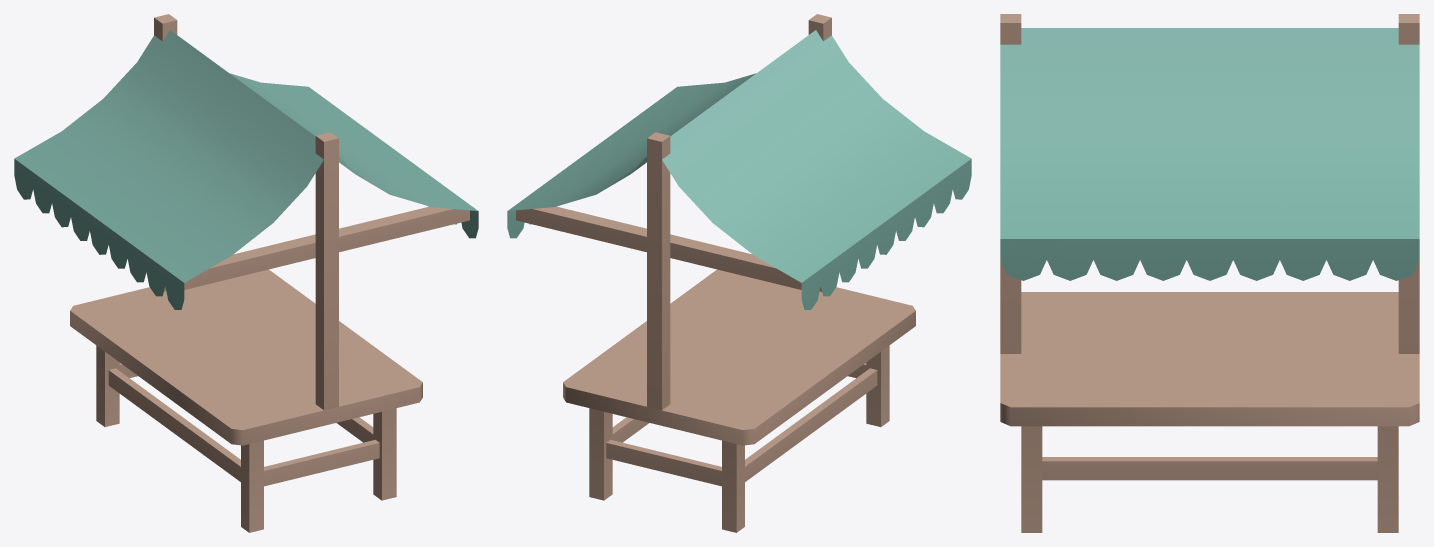
File: stall-green.glb
The picture shows the model from 3 angles, left to right: view 1: azimuth 30°, elevation 25°; view 2: azimuth 150°, elevation 25°; view 3: azimuth 270°, elevation 25°; orthographic projection. The views are drawn at different scales.
Visible parts, largest first — view 1: stall-green; view 2: stall-green; view 3: stall-green.
Boxes of the visible parts, left/top/right/bottom form: stall-green: left=14, top=14, right=478, bottom=532; stall-green: left=507, top=14, right=971, bottom=532; stall-green: left=1000, top=14, right=1419, bottom=532.
Size of the model in its own units: 1 by 1.24 by 1.
